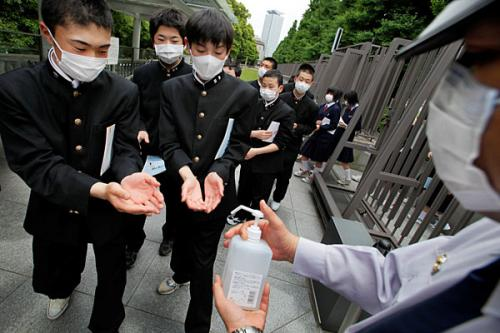yes_mask: (388, 1, 499, 219), (35, 1, 113, 84), (183, 10, 235, 82), (146, 6, 188, 68), (257, 70, 283, 106), (292, 62, 314, 97), (257, 55, 279, 79), (321, 85, 339, 105)
